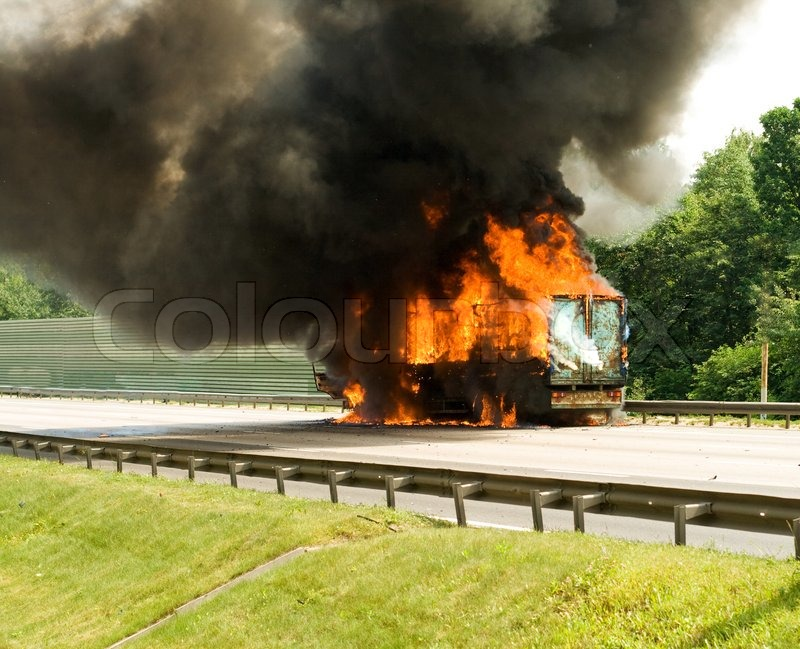fire: (344, 193, 619, 427)
